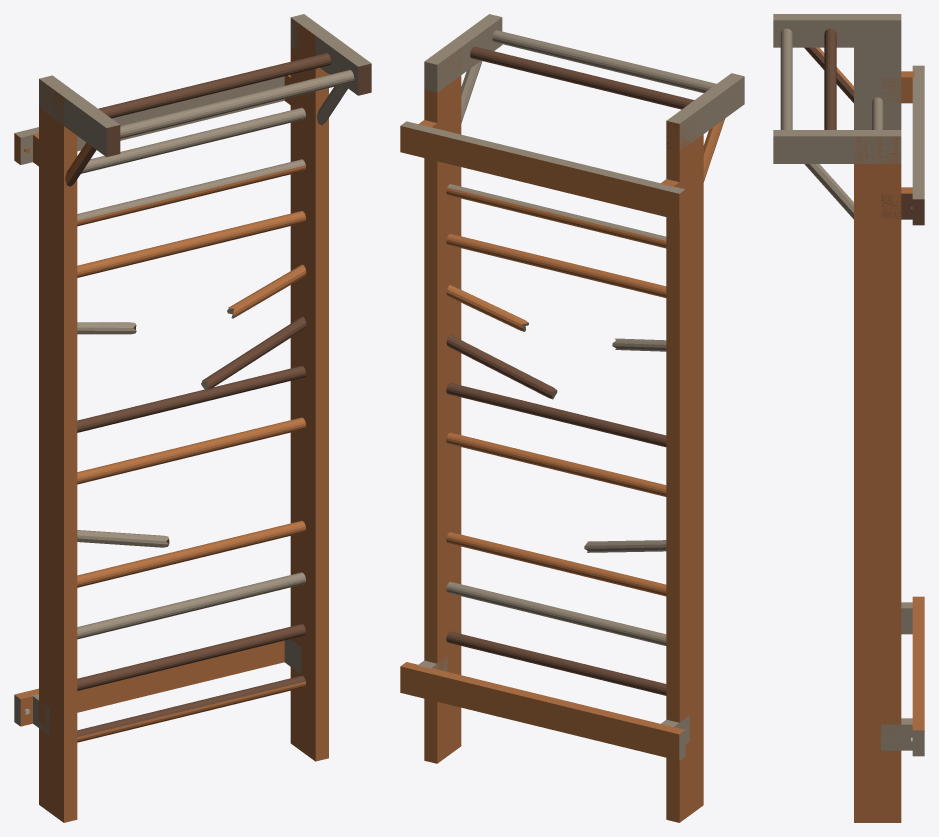
Rendered from Rehabilitation_Room_legs2.fbx.
The picture shows the model from 3 angles, left to right: view 1: azimuth 30°, elevation 25°; view 2: azimuth 150°, elevation 25°; view 3: azimuth 270°, elevation 25°; orthographic projection. The views are drawn at different scales.
Parts seen in each view (by area): view 1: 08_StallBars_Damaged_Mesh; view 2: 08_StallBars_Damaged_Mesh; view 3: 08_StallBars_Damaged_Mesh.
Boxes of the visible parts, left/top/right/bottom form: 08_StallBars_Damaged_Mesh: left=14, top=14, right=371, bottom=822; 08_StallBars_Damaged_Mesh: left=400, top=14, right=744, bottom=822; 08_StallBars_Damaged_Mesh: left=773, top=14, right=924, bottom=822.
Size of the model in its own units: 94 by 225 by 45.
